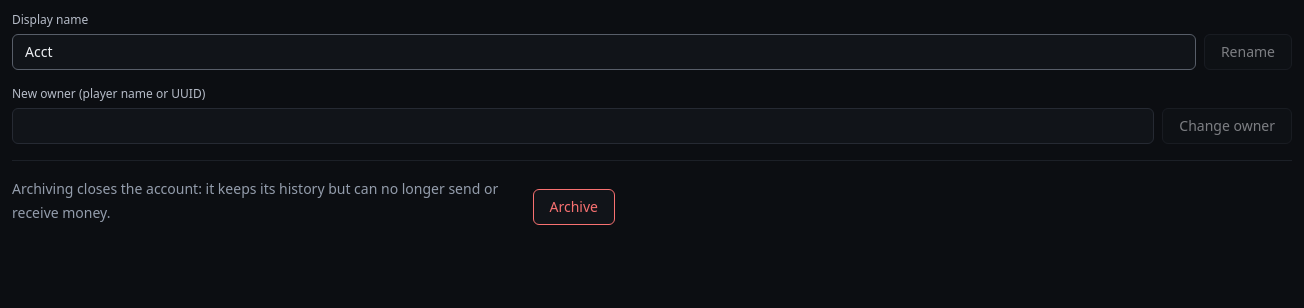
Test: AccountAdminPanel as admin › clears the previous message when a new action starts
The width and height of the screenshot is (1304, 308).
Click the button "Archive". click: (574, 207)
box: [532,189,615,225]
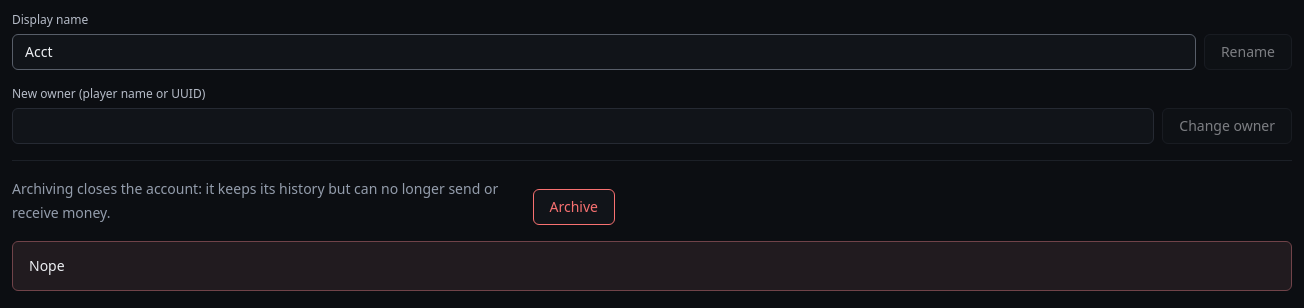
Expected: the text "Nope" is shown, [12,241,1292,291]
Click the button "Archive". click: (574, 207)
box: [532,189,615,225]
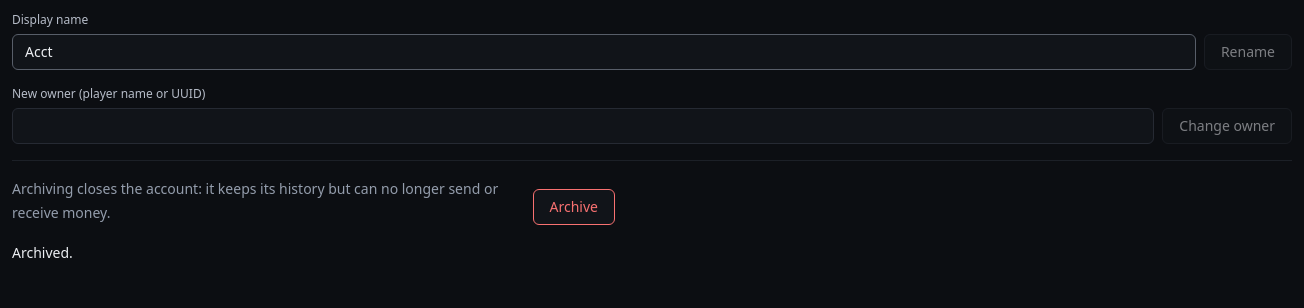
Expected: the text "Nope" is gone
Expected: the text "Archived." is shown, [12,243,73,262]
